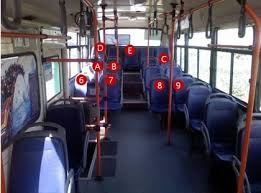seat: (205, 96, 235, 163)
